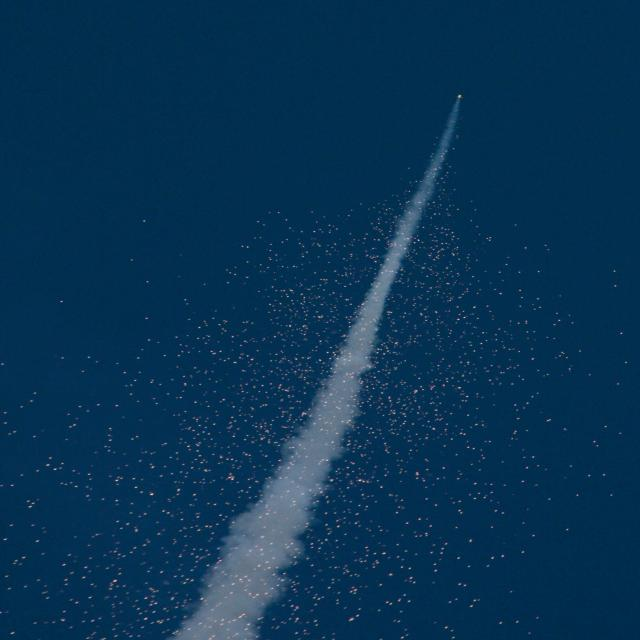Rocket: (456, 95, 463, 98)
